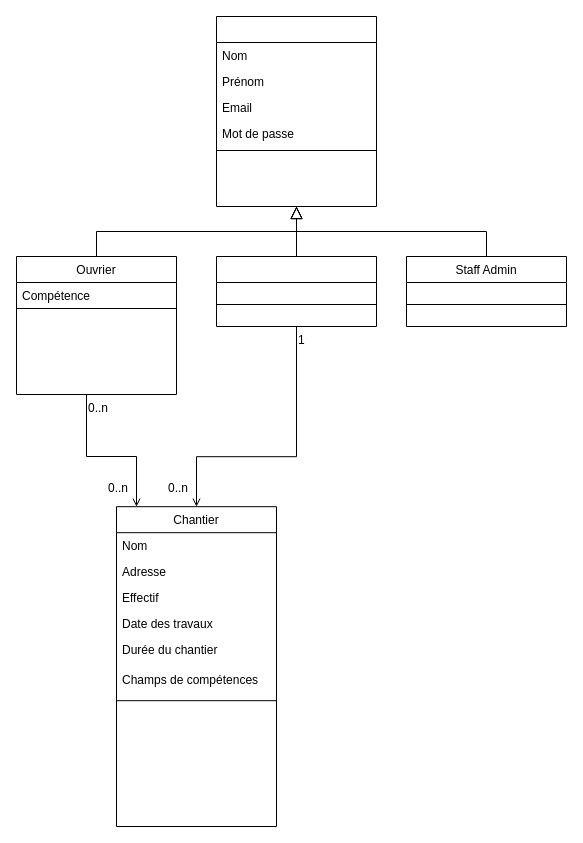
The diagram is 583 pixels wide and 843 high, and some of its shapes have lost their labels. Each missing label, with the box of its shape:
Chef de chantier: (216, 256, 376, 326)
Utilisateur: (216, 16, 376, 206)
